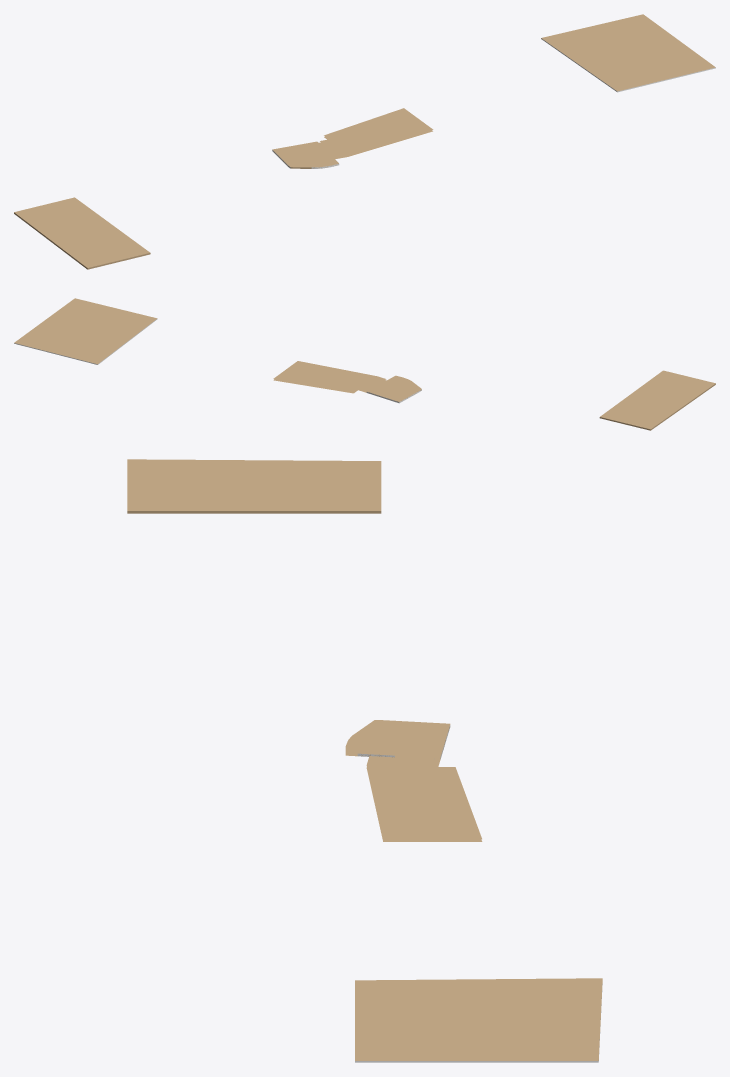
Rendered from sklep_podlaha.dae.
3 renders of one model, top to bottom at view 1: azimuth 30°, elevation 25°; view 2: azimuth 150°, elevation 25°; view 3: azimuth 270°, elevation 25°, orthographic. The views are drawn at different scales.
Parts seen in each view (by area): view 1: SketchUp (×3), group_0; view 2: SketchUp (×3), group_0; view 3: SketchUp (×3), group_0.
Boxes of the visible parts, left/top/right/bottom form: SketchUp (×3): left=272, top=14, right=715, bottom=168; group_0: left=14, top=197, right=150, bottom=269; SketchUp (×3): left=14, top=298, right=421, bottom=401; group_0: left=599, top=370, right=715, bottom=430; SketchUp (×3): left=345, top=720, right=602, bottom=1060; group_0: left=127, top=459, right=381, bottom=513.
Size of the model in its own units: 900 by 317 by 27.17.
